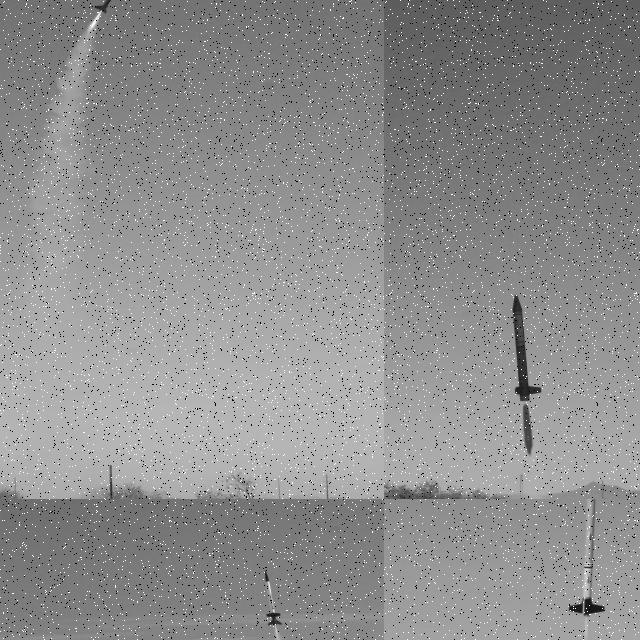Rocket: (569, 499, 606, 617), (512, 294, 542, 403), (264, 570, 283, 626), (94, 0, 125, 14)
